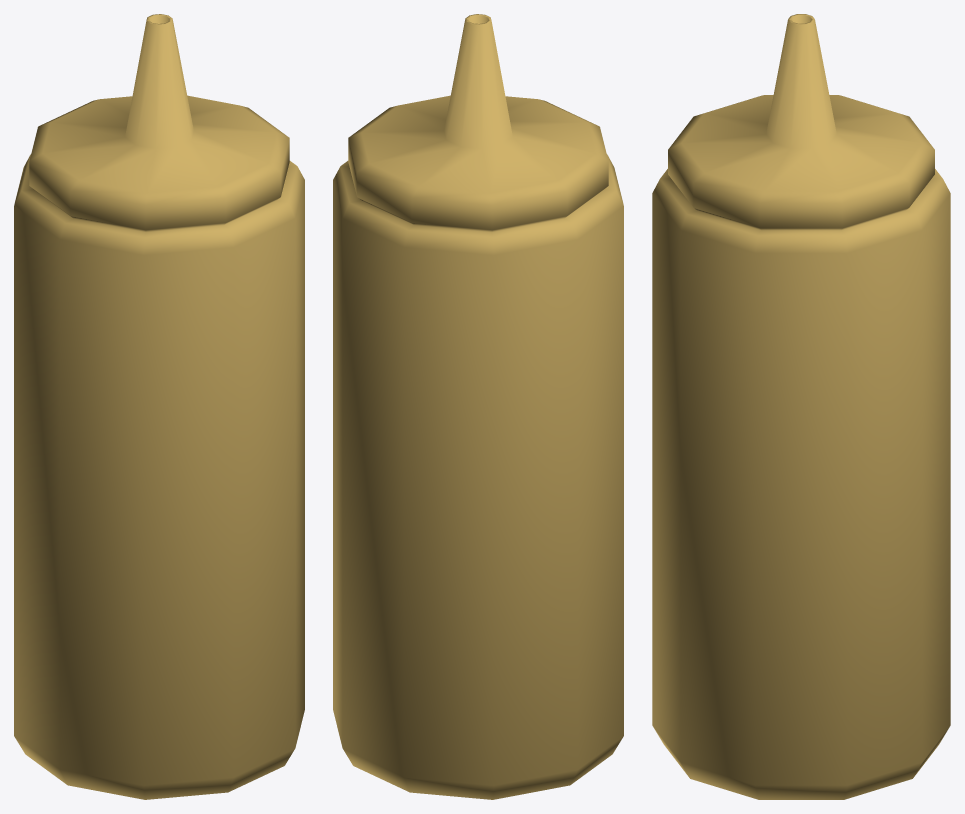
The model's file is Caramel Bottle.fbx.
3 renders of one model, left to right at view 1: azimuth 30°, elevation 25°; view 2: azimuth 150°, elevation 25°; view 3: azimuth 270°, elevation 25°, orthographic.
Parts seen in each view (by area): view 1: Caramel Sauce; view 2: Caramel Sauce; view 3: Caramel Sauce.
Boxes of the visible parts, bbox=[...] form: Caramel Sauce: bbox=[14, 14, 304, 799]; Caramel Sauce: bbox=[333, 14, 623, 799]; Caramel Sauce: bbox=[652, 14, 950, 799].
Size of the model in its own units: 12.98 by 36.6 by 13.65.
